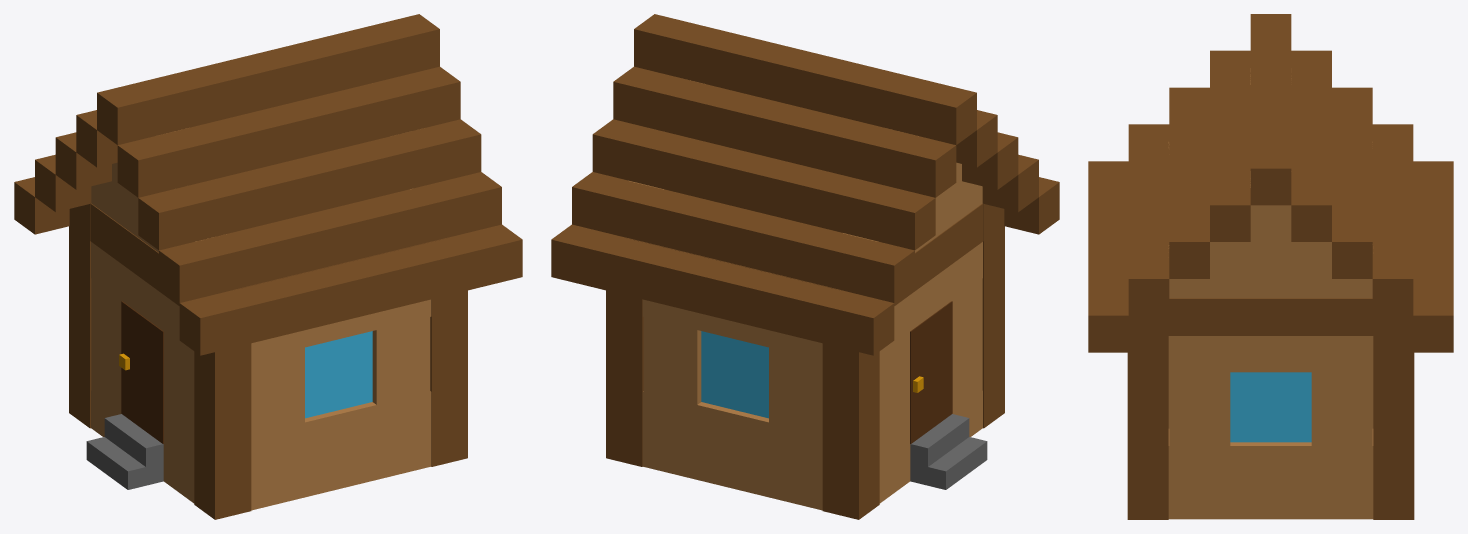
Rendered from 村人の家.fbx.
The picture shows the model from 3 angles, left to right: view 1: azimuth 30°, elevation 25°; view 2: azimuth 150°, elevation 25°; view 3: azimuth 270°, elevation 25°; orthographic projection.
Visible parts, largest first — view 1: 立方体, 立方体.003, 立方体.002, 立方体.001, 立方体.004, 立方体.005, 立方体.007, 立方体.008, 立方体.009, 立方体.010, 立方体.006; view 2: 立方体, 立方体.007, 立方体.006, 立方体.001, 立方体.008, 立方体.009, 立方体.003, 立方体.004, 立方体.005, 立方体.010, 立方体.002; view 3: 立方体, 立方体.008, 立方体.001, 立方体.004, 立方体.002, 立方体.003, 立方体.006, 立方体.007, 立方体.005, 立方体.009, 立方体.013, 立方体.014 (+1 smaller).
Part boxes in pixels (x1,y1,x2,y2): 立方体: [69, 203, 467, 519]; 立方体.003: [138, 119, 481, 250]; 立方体.002: [117, 66, 460, 197]; 立方体.001: [97, 14, 439, 144]; 立方体.004: [159, 172, 501, 302]; 立方体.005: [179, 224, 522, 355]; 立方体.007: [55, 132, 111, 189]; 立方体.008: [35, 154, 91, 212]; 立方体.009: [14, 177, 69, 234]; 立方体.010: [91, 181, 226, 252]; 立方体.006: [76, 110, 117, 167]; 立方体: [606, 203, 1004, 519]; 立方体.007: [592, 119, 935, 250]; 立方体.006: [613, 66, 956, 197]; 立方体.001: [634, 14, 976, 144]; 立方体.008: [572, 172, 914, 302]; 立方体.009: [551, 224, 894, 355]; 立方体.003: [962, 132, 1018, 189]; 立方体.004: [982, 154, 1038, 212]; 立方体.005: [1004, 177, 1059, 234]; 立方体.010: [843, 181, 982, 252]; 立方体.002: [956, 110, 997, 167]; 立方体: [1127, 178, 1414, 519]; 立方体.008: [1372, 124, 1413, 315]; 立方体.001: [1250, 14, 1291, 205]; 立方体.004: [1128, 124, 1169, 315]; 立方体.002: [1210, 50, 1250, 241]; 立方体.003: [1169, 87, 1209, 278]; 立方体.006: [1291, 50, 1331, 241]; 立方体.007: [1332, 87, 1372, 278]; 立方体.005: [1088, 161, 1128, 352]; 立方体.009: [1413, 161, 1453, 352]; 立方体.013: [1168, 245, 1372, 298]; 立方体.014: [1210, 225, 1331, 261].
Bounding box in the file's own units: 18 × 20 × 18.
